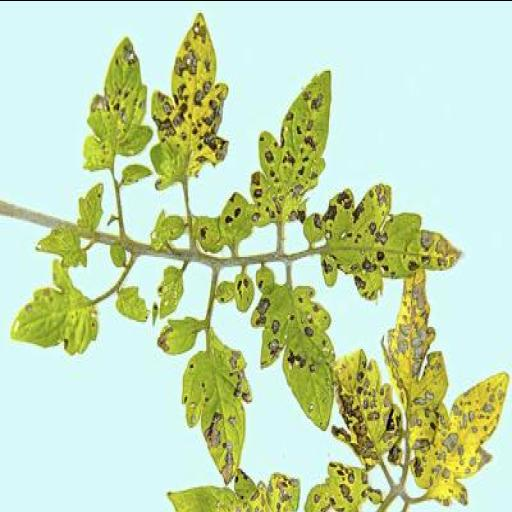disease_tomato: (376, 268, 512, 510), (298, 180, 466, 298), (155, 312, 253, 485), (240, 266, 338, 436), (148, 0, 232, 197), (243, 53, 334, 234), (80, 34, 156, 174), (328, 342, 406, 472), (8, 256, 99, 357), (158, 466, 302, 512), (301, 461, 379, 512), (215, 189, 253, 247)
